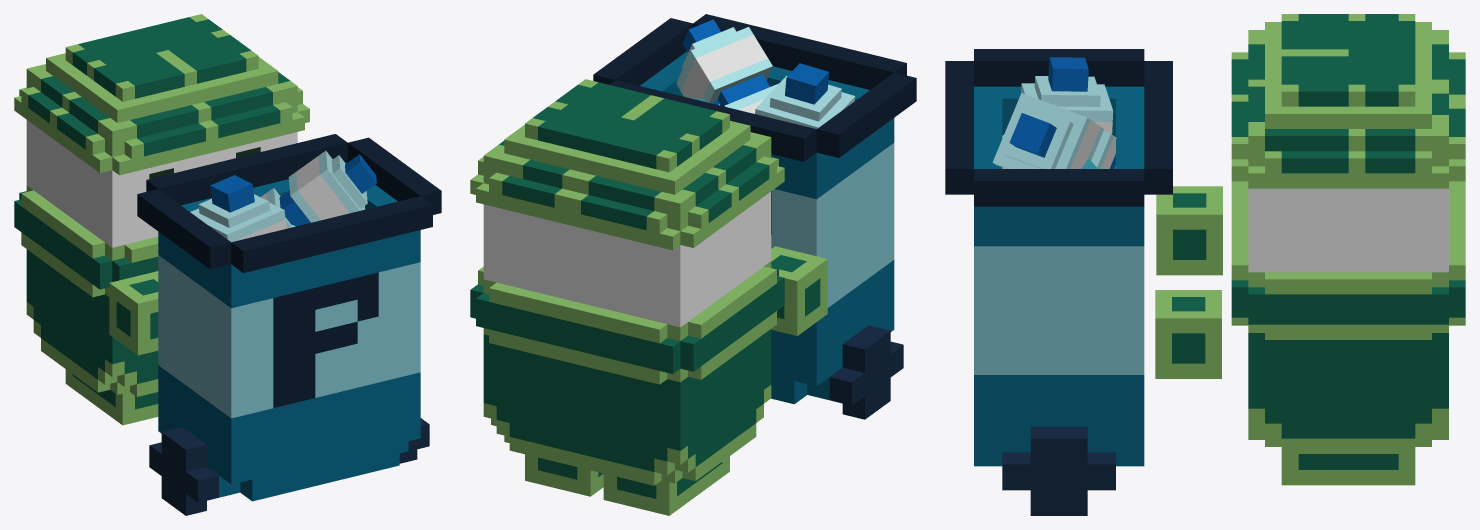
File: p2_plas_con.gltf
The picture shows the model from 3 angles, left to right: view 1: azimuth 30°, elevation 25°; view 2: azimuth 150°, elevation 25°; view 3: azimuth 270°, elevation 25°; orthographic projection. The views are drawn at different scales.
Parts seen in each view (by area): view 1: Object_0.001, Object_0.000, Object_0.005, Object_0.004, Object_0; view 2: Object_0.000, Object_0.001, Object_0.005, Object_0.004, Object_0; view 3: Object_0.000, Object_0.001, Object_0.005, Object_0.002, Object_0, Object_0.004.
Boxes of the visible parts, bbox=[...] form: Object_0.001: bbox=[137, 134, 441, 515]; Object_0.000: bbox=[14, 14, 309, 425]; Object_0.005: bbox=[261, 150, 376, 228]; Object_0.004: bbox=[190, 175, 286, 242]; Object_0: bbox=[109, 271, 158, 355]; Object_0.000: bbox=[470, 79, 784, 515]; Object_0.001: bbox=[593, 14, 916, 419]; Object_0.005: bbox=[676, 19, 782, 113]; Object_0.004: bbox=[755, 63, 855, 128]; Object_0: bbox=[771, 246, 827, 335]; Object_0.000: bbox=[1231, 14, 1465, 485]; Object_0.001: bbox=[945, 49, 1172, 515]; Object_0.005: bbox=[992, 93, 1116, 168]; Object_0.002: bbox=[1155, 290, 1221, 378]; Object_0: bbox=[1156, 186, 1222, 275]; Object_0.004: bbox=[1021, 57, 1113, 134].
Size of the model in its own units: 1.92 by 2.61 by 3.11.
8 materials, 8 textured.
